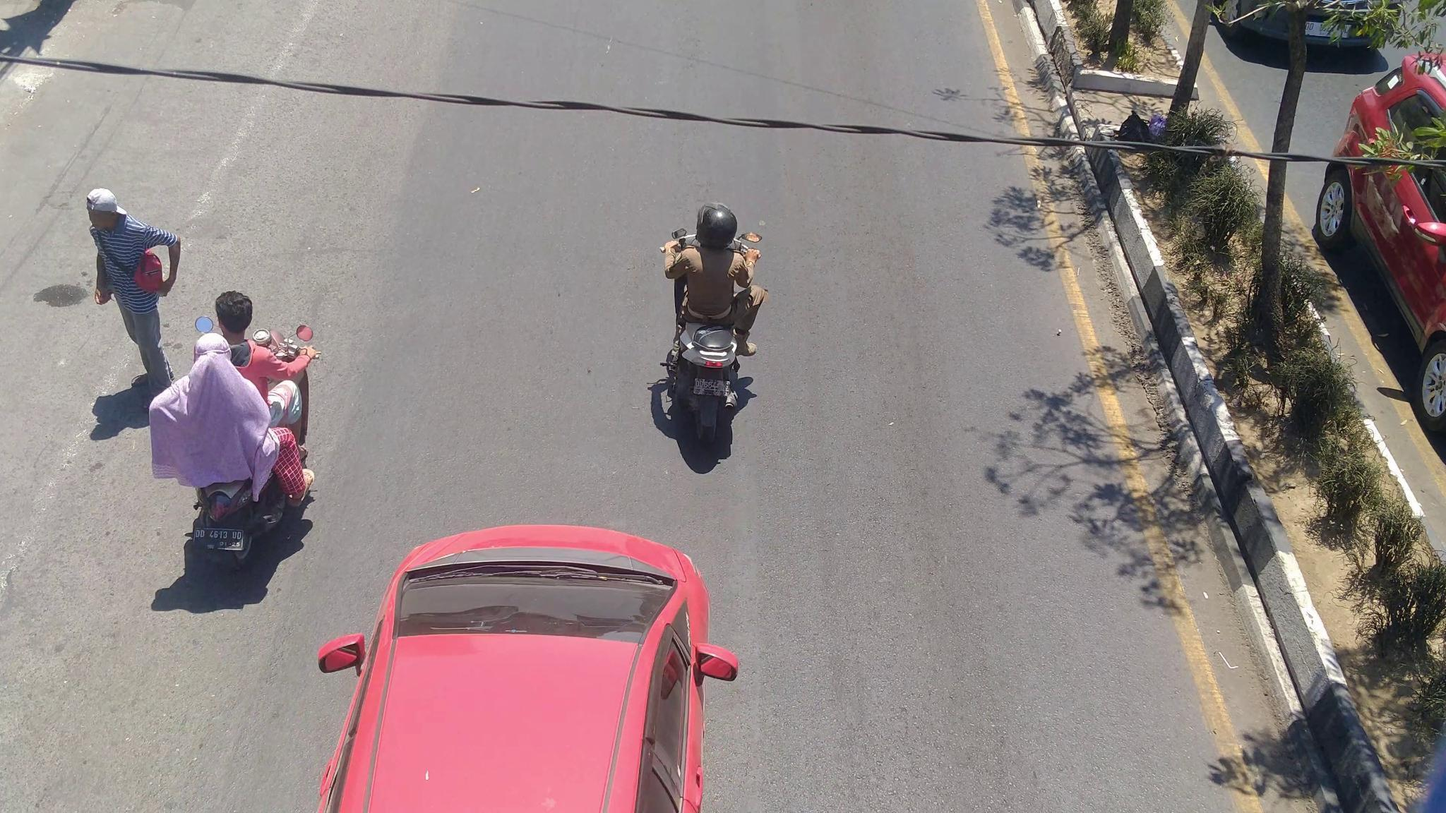Helmet: (691, 197, 740, 252)
bike: (178, 312, 322, 567), (663, 217, 766, 439)
no-helmet: (208, 287, 258, 337), (190, 332, 236, 376)
number-plate: (190, 526, 245, 552)
rider: (149, 330, 315, 508), (665, 199, 767, 355), (204, 291, 311, 430)
